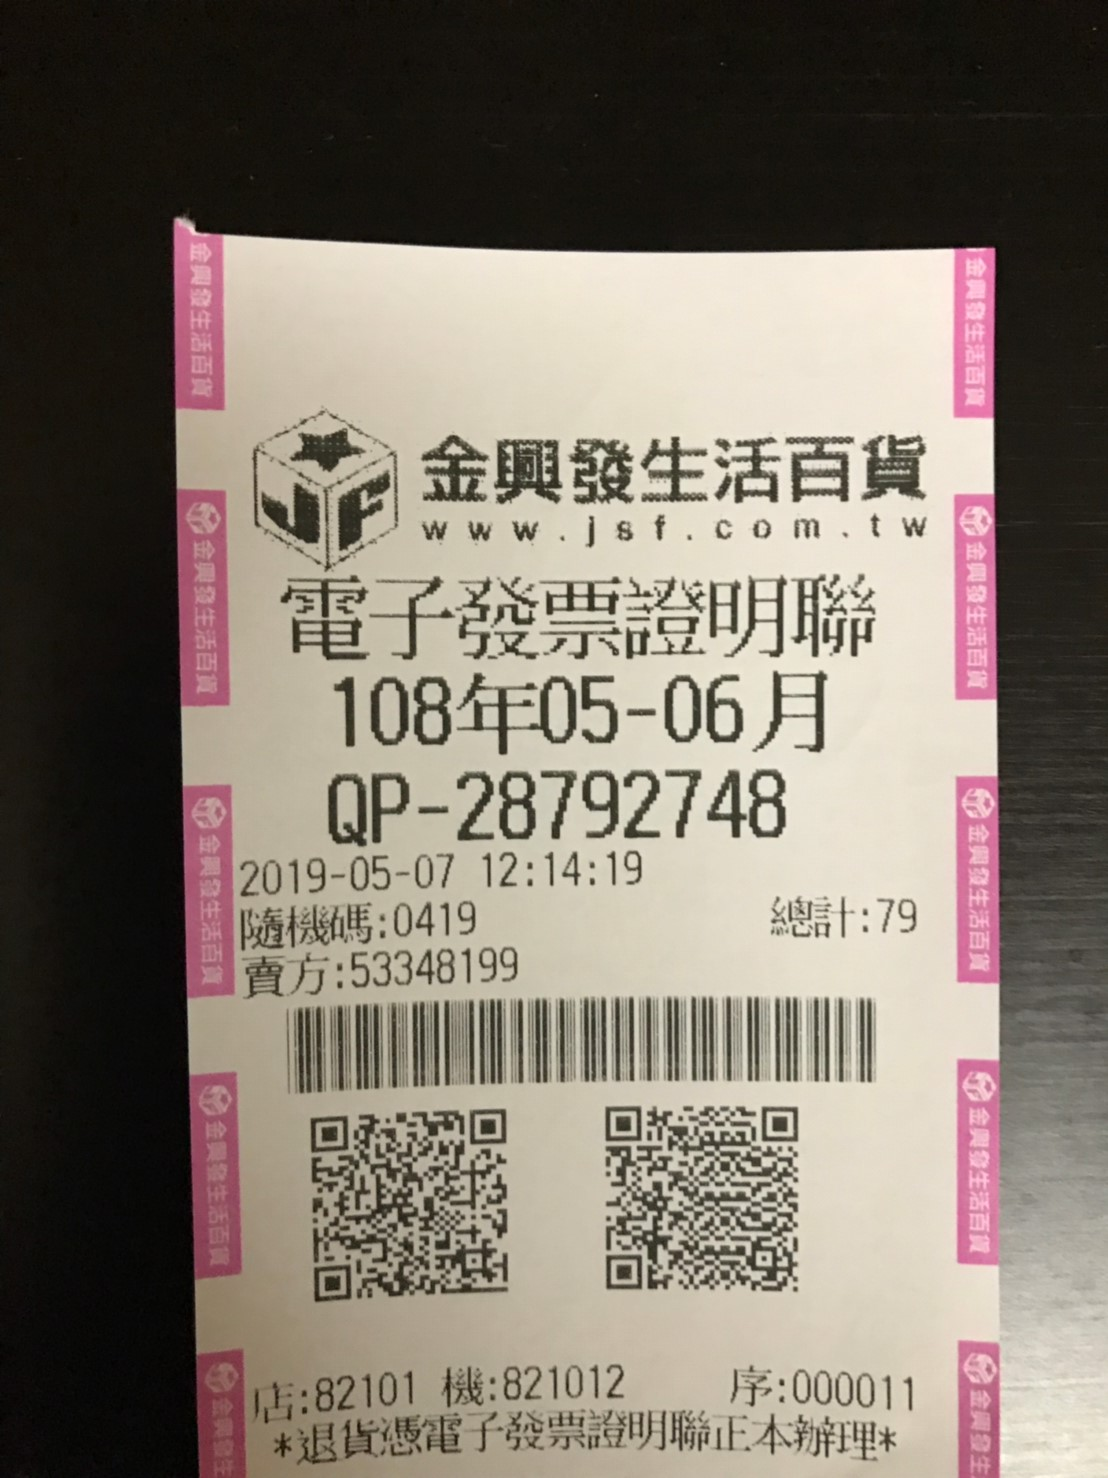Date_New: (335, 667, 830, 754)
Number_New: (459, 760, 789, 841)
